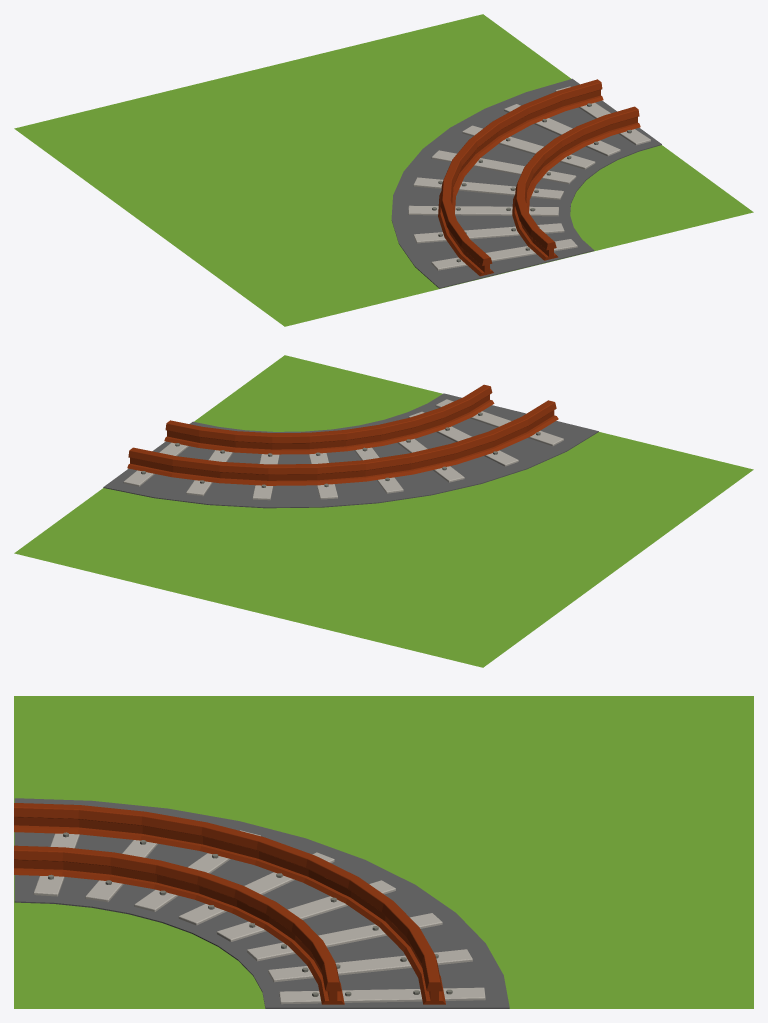
The model's file is curved_rail.gltf.
3 views of the same model, one above another, from view 1: azimuth 30°, elevation 25°; view 2: azimuth 150°, elevation 25°; view 3: azimuth 270°, elevation 25° (orthographic). The views are drawn at different scales.
Visible parts, largest first — view 1: curved Rail; view 2: curved Rail; view 3: curved Rail.
Part boxes in pixels (x1,y1,x2,y2): curved Rail: (14,14,753,326); curved Rail: (14,355,753,667); curved Rail: (14,696,753,1008).
Bounding box in the file's own units: 20 × 0.7776 × 20.
